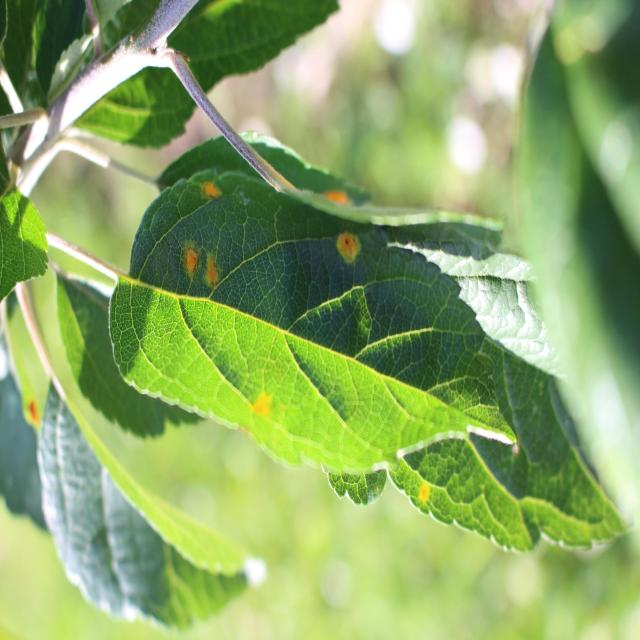Rust: (5, 386, 63, 446), (226, 376, 282, 431), (325, 224, 370, 288), (190, 149, 223, 213), (314, 171, 353, 223), (410, 458, 435, 522), (202, 235, 222, 308), (178, 243, 204, 294)
